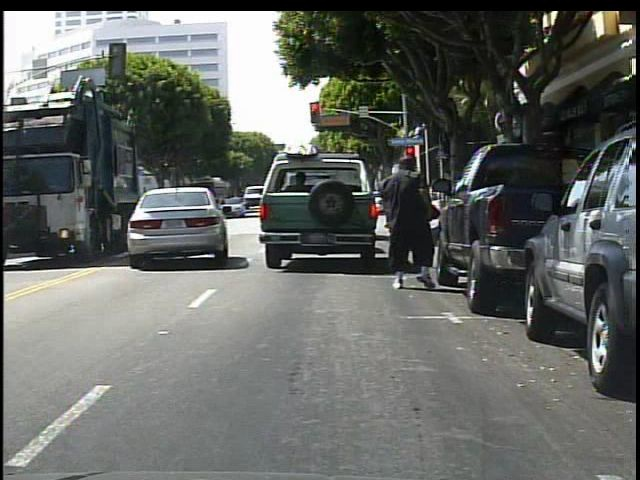person: (382, 157, 440, 293)
